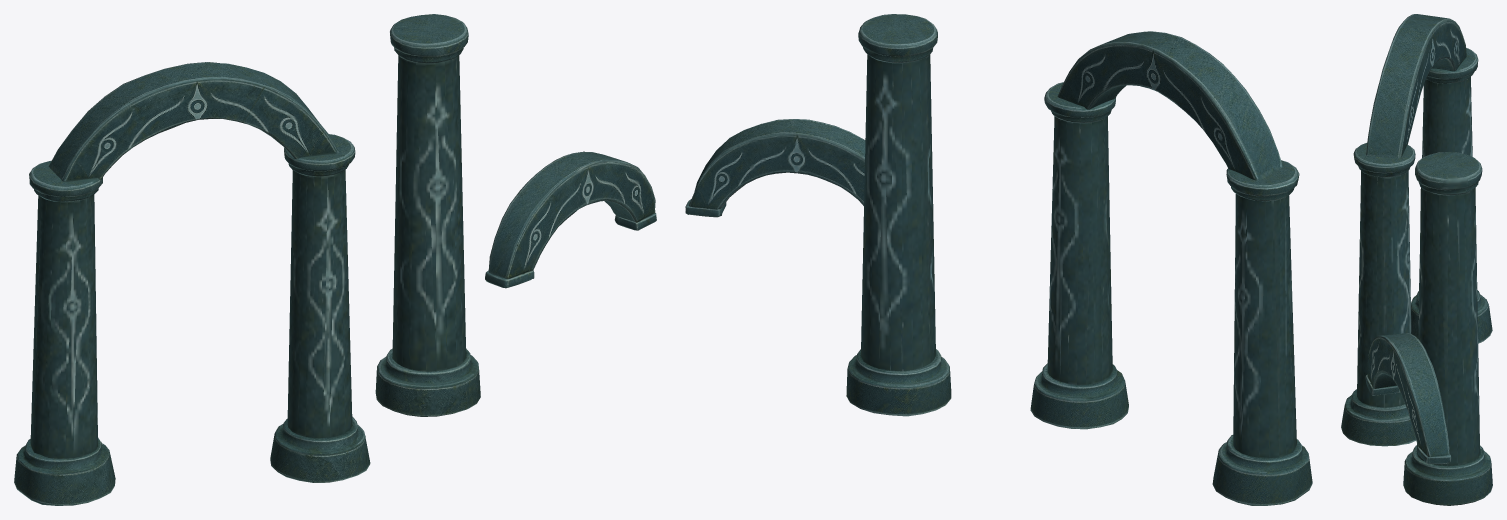
File: user-parts.glb
3 renders of one model, left to right at view 1: azimuth 30°, elevation 25°; view 2: azimuth 150°, elevation 25°; view 3: azimuth 270°, elevation 25°, orthographic. The views are drawn at different scales.
Visible parts, largest first — view 1: full-arch, pillar, arch-span; view 2: full-arch, pillar, arch-span; view 3: full-arch, pillar, arch-span.
Part boxes in pixels (x1,y1,x2,y2): full-arch: (14,62,370,505); pillar: (375,14,480,416); arch-span: (485,151,656,288); full-arch: (1030,31,1312,505); pillar: (846,14,951,416); arch-span: (685,119,865,217); full-arch: (1341,14,1492,446); pillar: (1403,152,1492,505); arch-span: (1365,333,1451,464).
Size of the model in its own units: 1 by 0.6249 by 0.2425.
1 material, 1 textured.
